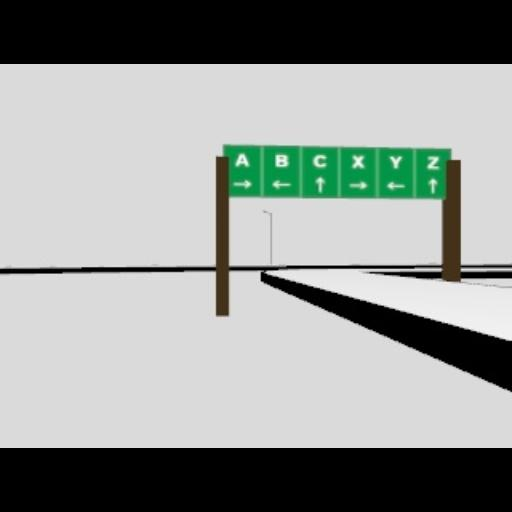A: (234, 152, 248, 166)
B: (274, 154, 288, 166)
C: (312, 154, 326, 166)
Left: (270, 179, 292, 189), (386, 181, 404, 189)
Right: (232, 179, 252, 189), (348, 181, 368, 189)
Straight: (427, 178, 437, 194), (315, 176, 325, 192)
X: (351, 154, 365, 168)
Y: (387, 154, 401, 168)
Z: (426, 156, 438, 168)
